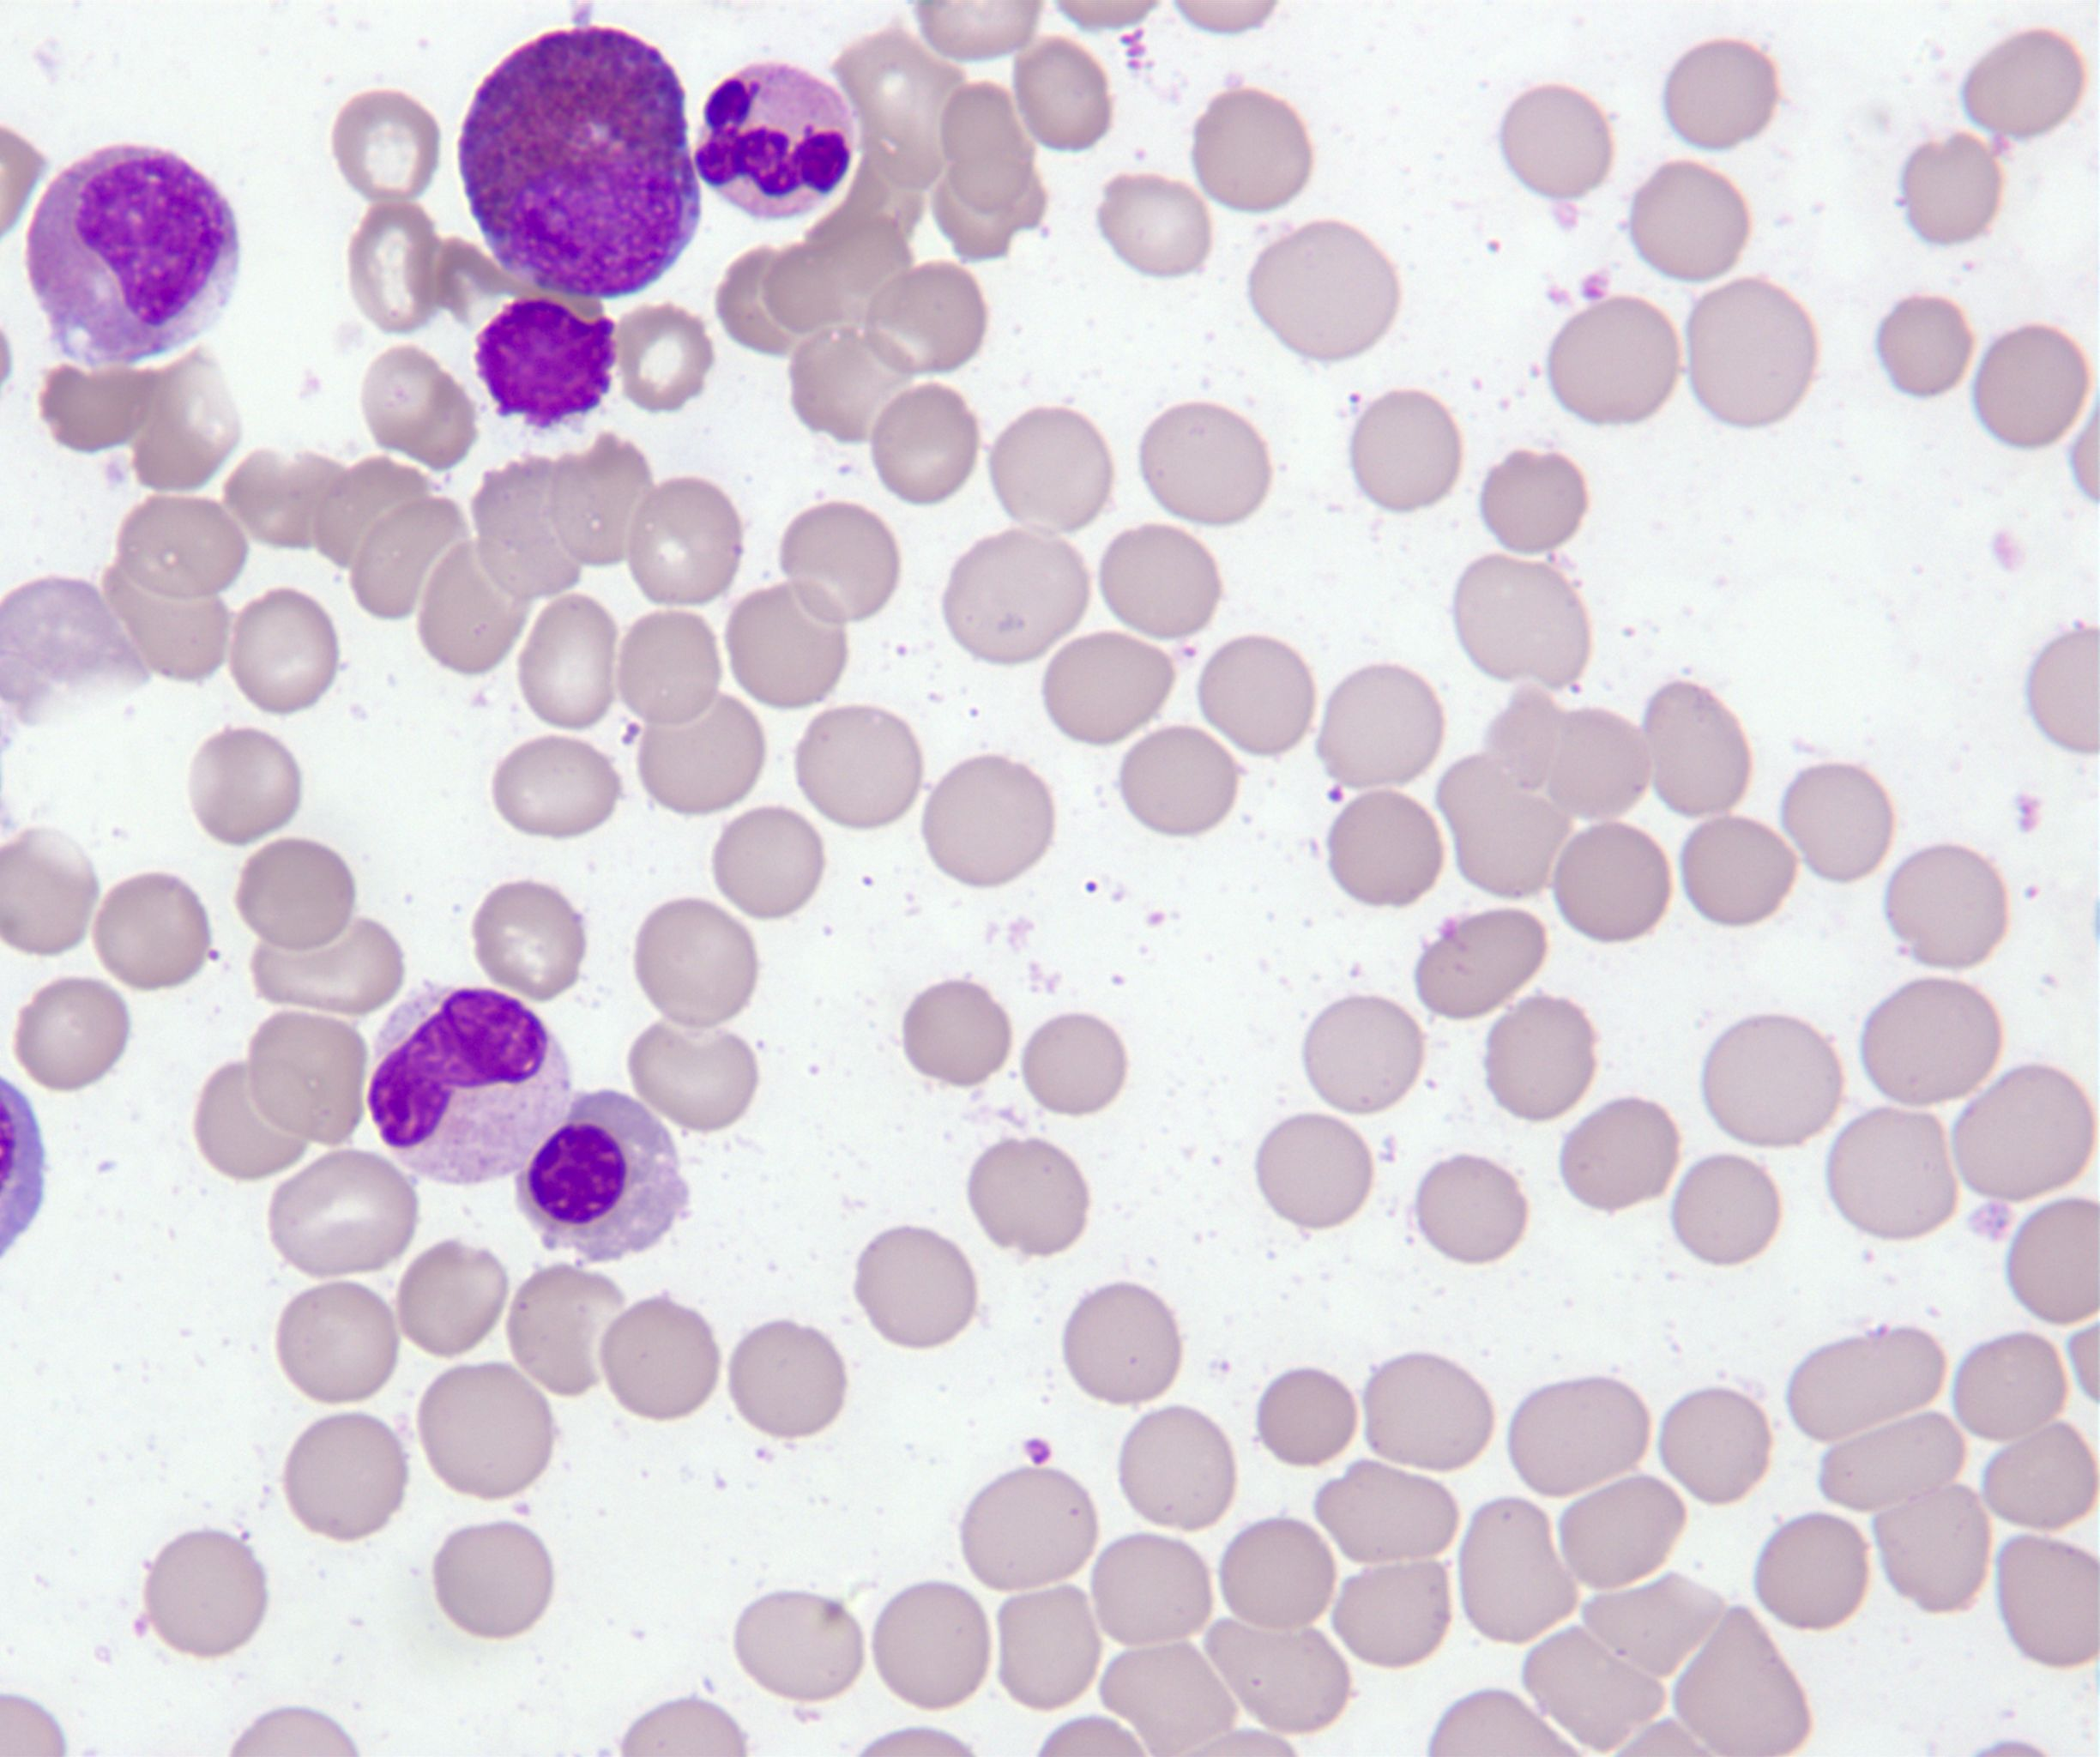24: (511, 1089, 689, 1261)
3: (26, 145, 239, 361)
4: (368, 986, 569, 1186)
6: (692, 61, 855, 218)
E2: (457, 28, 701, 300)
x: (474, 298, 616, 427)
